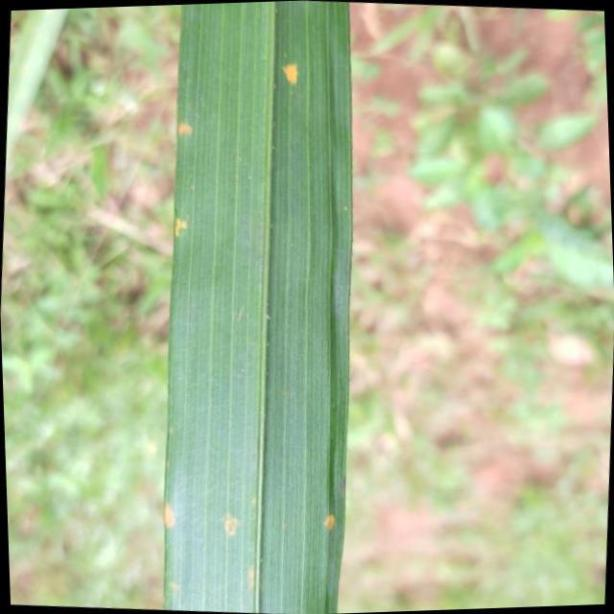Kalium: (161, 0, 360, 614)
